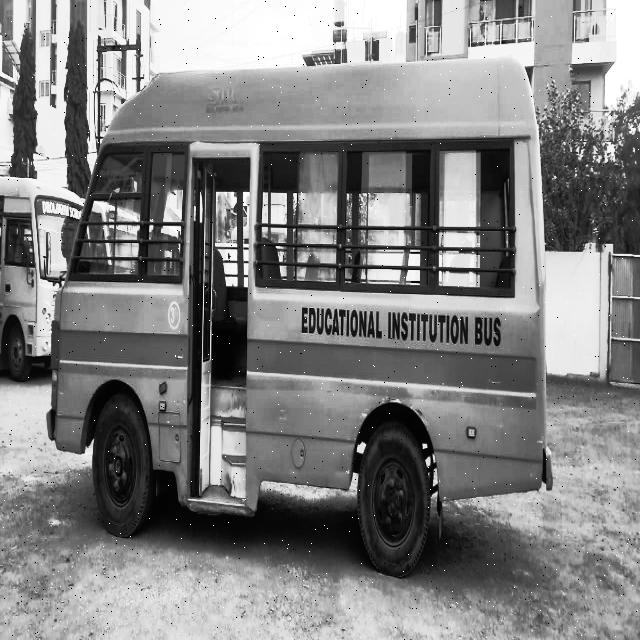Bus: (49, 53, 568, 576), (2, 173, 84, 396)
